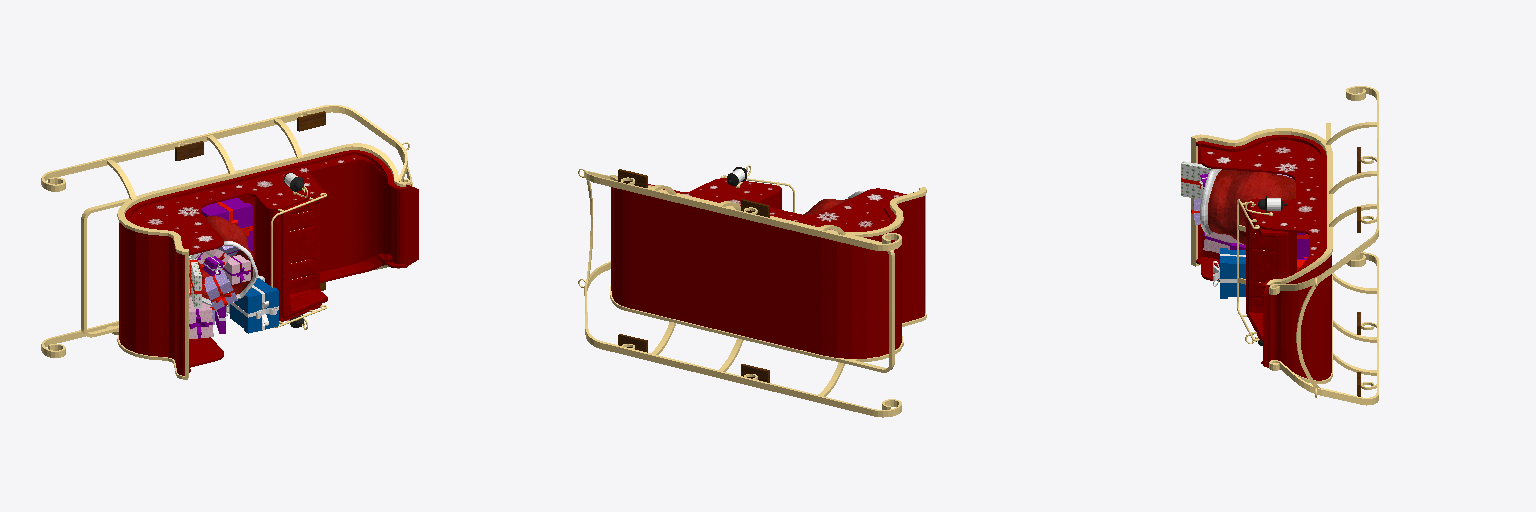
3 views of the same model, side by side, from view 1: azimuth 30°, elevation 25°; view 2: azimuth 150°, elevation 25°; view 3: azimuth 270°, elevation 25° (orthographic).
Visible parts, largest first — view 1: sledge_low, gifts_low, cloth_low; view 2: sledge_low; view 3: sledge_low, cloth_low, gifts_low.
Part boxes in pixels (bbox=[...]): sledge_low: bbox=[41, 105, 418, 379]; gifts_low: bbox=[189, 198, 278, 338]; cloth_low: bbox=[189, 216, 257, 305]; sledge_low: bbox=[578, 165, 926, 417]; sledge_low: bbox=[1191, 86, 1378, 405]; cloth_low: bbox=[1200, 169, 1295, 244]; gifts_low: bbox=[1181, 161, 1308, 298].
Size of the model in its own units: 366 by 181 by 183.
Materials: 3 (3 with a texture image).